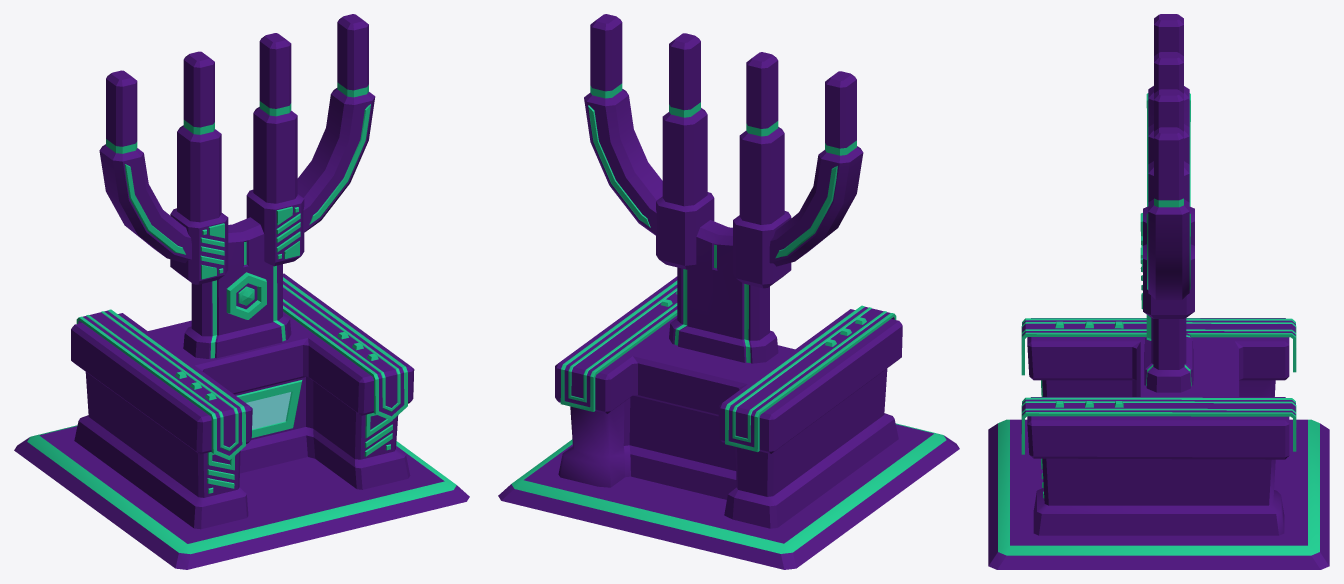
Rendered from Aaltar_var2.fbx.
3 views of the same model, side by side, from view 1: azimuth 30°, elevation 25°; view 2: azimuth 150°, elevation 25°; view 3: azimuth 270°, elevation 25° (orthographic).
Visible parts, largest first — view 1: Aaltar2; view 2: Aaltar2; view 3: Aaltar2.
Part boxes in pixels (bbox=[...]): Aaltar2: bbox=[14, 14, 469, 569]; Aaltar2: bbox=[498, 14, 959, 569]; Aaltar2: bbox=[988, 14, 1329, 569].
Bounding box in the file's own units: 78.73 × 108 × 78.73.
